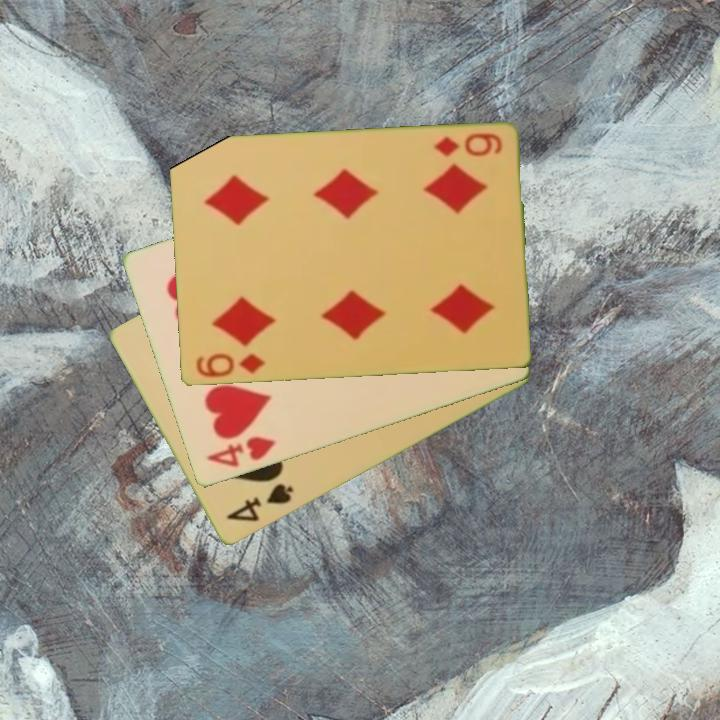4h: (203, 433, 279, 471)
4s: (223, 480, 297, 526)
6d: (192, 350, 268, 381), (430, 130, 505, 160)
